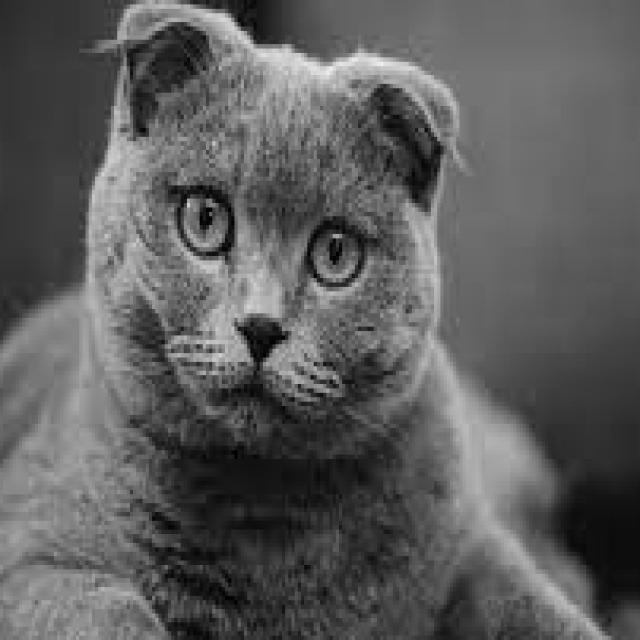scootish: (64, 0, 467, 504)
